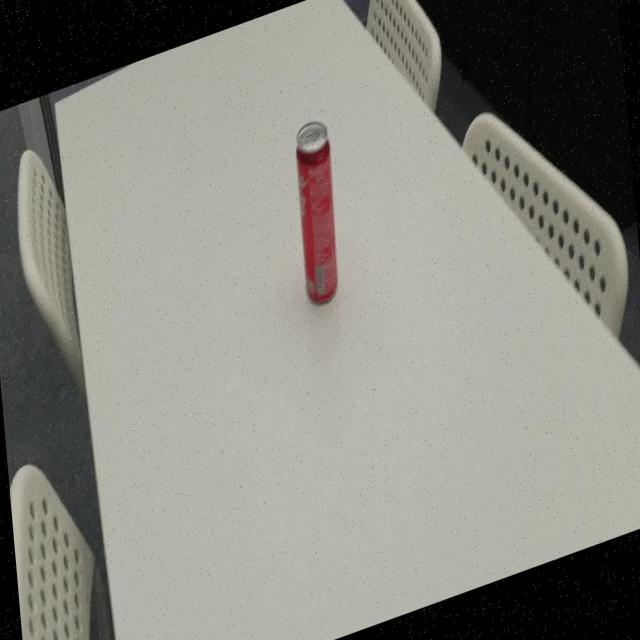coca-cola: (292, 114, 343, 318)
